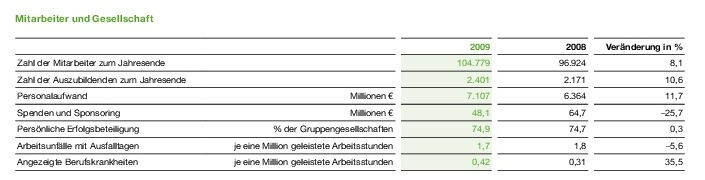table: (0, 0, 705, 180)
